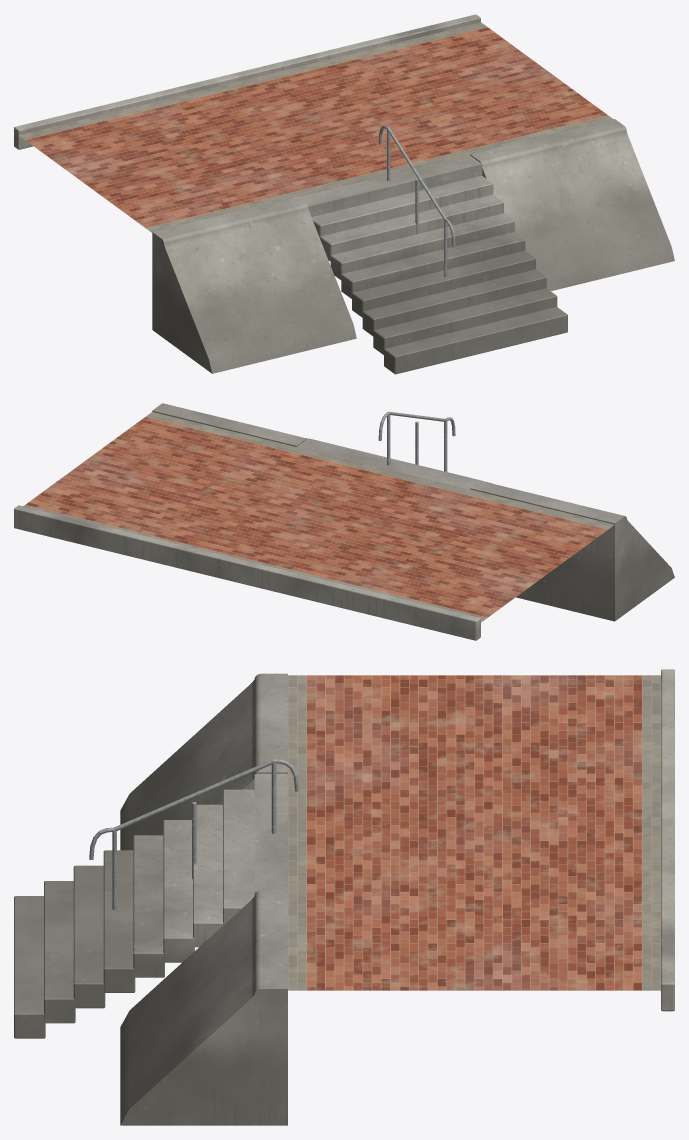
The model's file is Seawall_Stairs.gltf.
The picture shows the model from 3 angles, top to bottom: view 1: azimuth 30°, elevation 25°; view 2: azimuth 150°, elevation 25°; view 3: azimuth 270°, elevation 25°; orthographic projection. The views are drawn at different scales.
Parts seen in each view (by area): view 1: Seawall_Stairs; view 2: Seawall_Stairs; view 3: Seawall_Stairs.
Part boxes in pixels (left/top/right/bottom): Seawall_Stairs: left=14, top=14, right=674, bottom=374; Seawall_Stairs: left=14, top=403, right=674, bottom=640; Seawall_Stairs: left=14, top=669, right=674, bottom=1125.
Bounding box in the file's own units: 8 × 2.61 × 7.09.
Materials: 4 (4 with a texture image).
